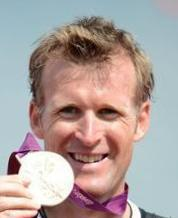face: (58, 98, 120, 170)
